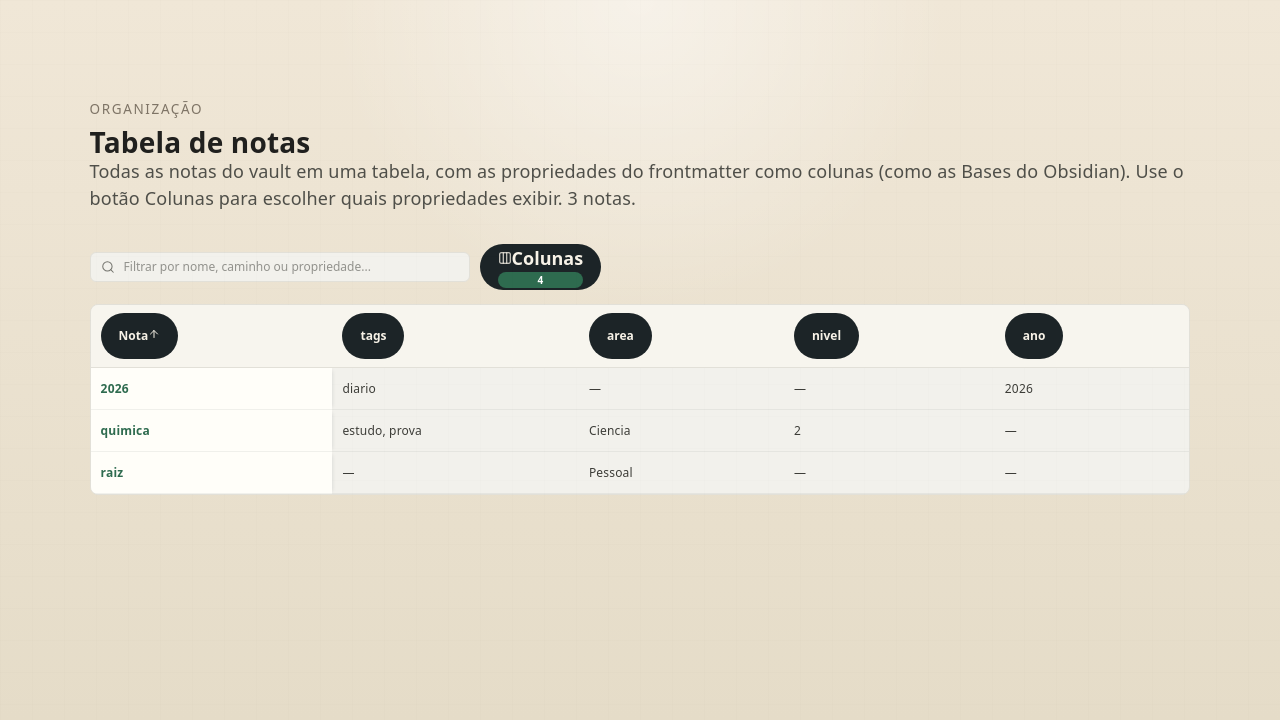
BasesPage (Tabela) › o seletor de colunas lista as propriedades e a coluna Nota fica fixa
This screenshot has width=1280, height=720.
Expected: the table is shown, [91,305,1189,494]
Click the button with aria-label "Escolher colunas da tabela". click: (540, 267)
box: [480,244,601,290]
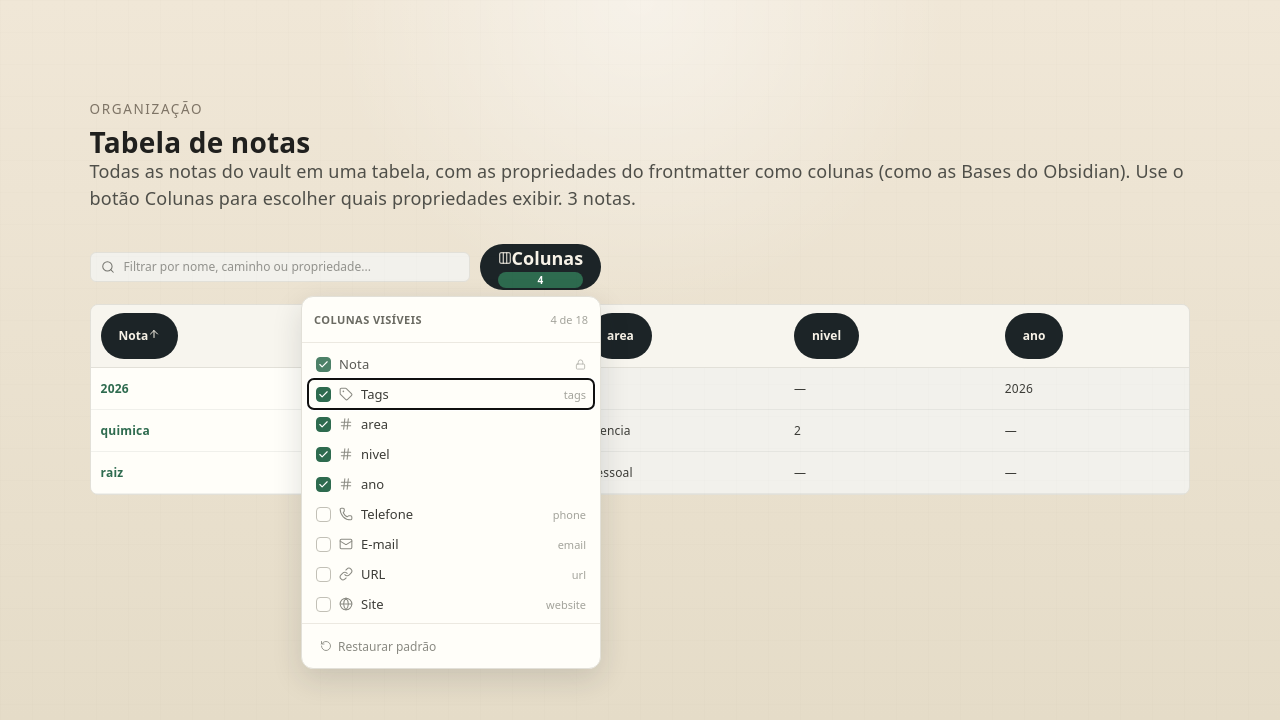
Expected: the text "Nota" below "Colunas visíveis" is shown, [339,355,370,373]
Expected: the text "Nota" is shown, [308,349,594,379]
